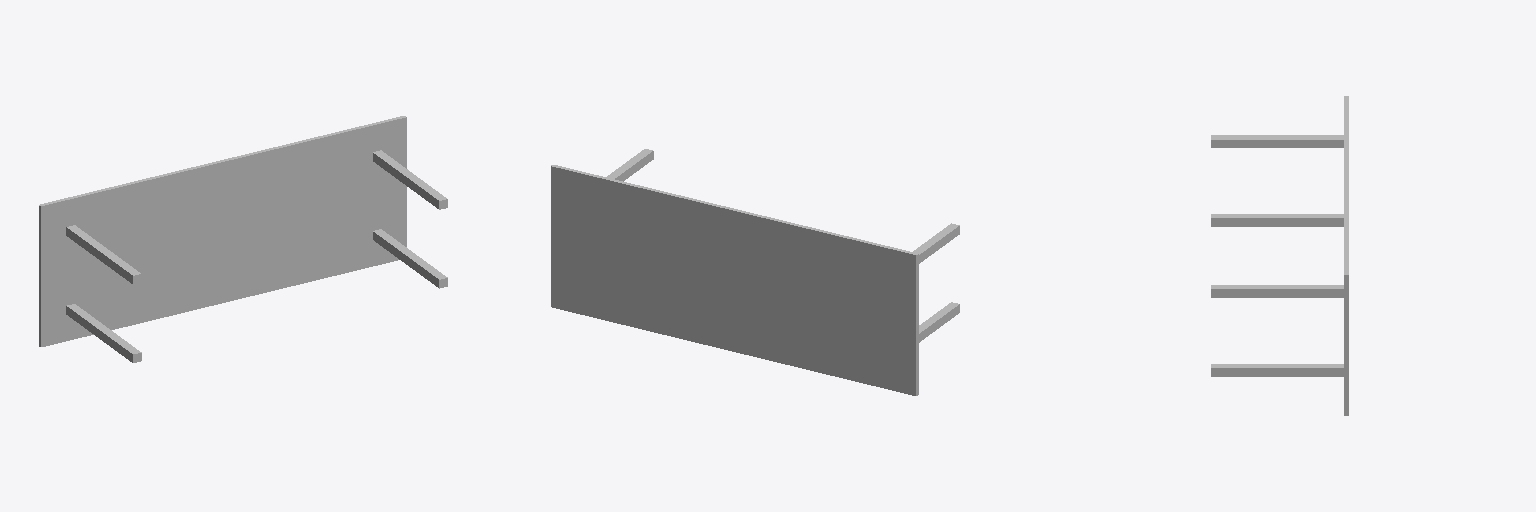
The model's file is random_table89.obj.
3 views of the same model, side by side, from view 1: azimuth 30°, elevation 25°; view 2: azimuth 150°, elevation 25°; view 3: azimuth 270°, elevation 25° (orthographic).
Parts seen in each view (by area): view 1: Table_Cube.1510, TableLeg1_Cube.1512, TableLeg3_Cube.1514, TableLeg0_Cube.1511, TableLeg2_Cube.1513; view 2: Table_Cube.1510, TableLeg1_Cube.1512, TableLeg3_Cube.1514, TableLeg0_Cube.1511; view 3: TableLeg0_Cube.1511, TableLeg1_Cube.1512, TableLeg2_Cube.1513, TableLeg3_Cube.1514, Table_Cube.1510.
Part boxes in pixels (x1,y1,x2,y2): Table_Cube.1510: (39, 116, 406, 346); TableLeg1_Cube.1512: (66, 225, 141, 284); TableLeg3_Cube.1514: (66, 304, 141, 362); TableLeg0_Cube.1511: (373, 150, 447, 209); TableLeg2_Cube.1513: (373, 229, 447, 288); Table_Cube.1510: (551, 165, 918, 395); TableLeg1_Cube.1512: (913, 223, 959, 263); TableLeg3_Cube.1514: (919, 302, 959, 342); TableLeg0_Cube.1511: (607, 149, 653, 181); TableLeg0_Cube.1511: (1211, 285, 1343, 297); TableLeg1_Cube.1512: (1211, 135, 1343, 147); TableLeg2_Cube.1513: (1211, 364, 1343, 376); TableLeg3_Cube.1514: (1211, 214, 1343, 226); Table_Cube.1510: (1344, 96, 1348, 415).
Size of the model in its own units: 12.46 by 4.59 by 4.07.